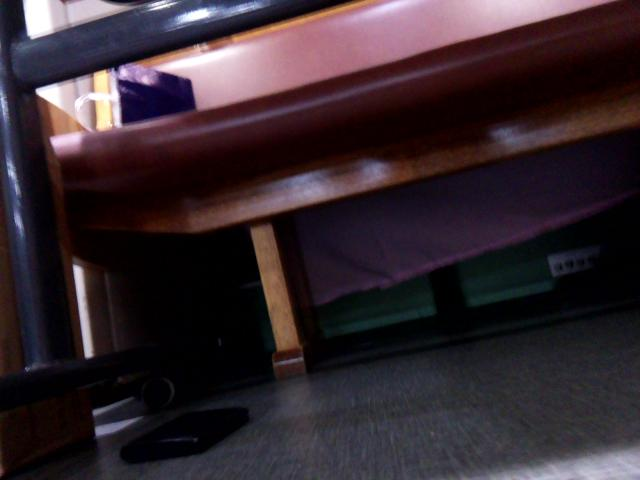wallet: (116, 403, 253, 465)
